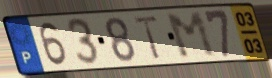3: (67, 16, 100, 68)
6: (38, 21, 69, 68)
7: (202, 9, 232, 60)
8: (104, 16, 138, 64)
M: (164, 10, 220, 61)
T: (132, 14, 163, 62)
